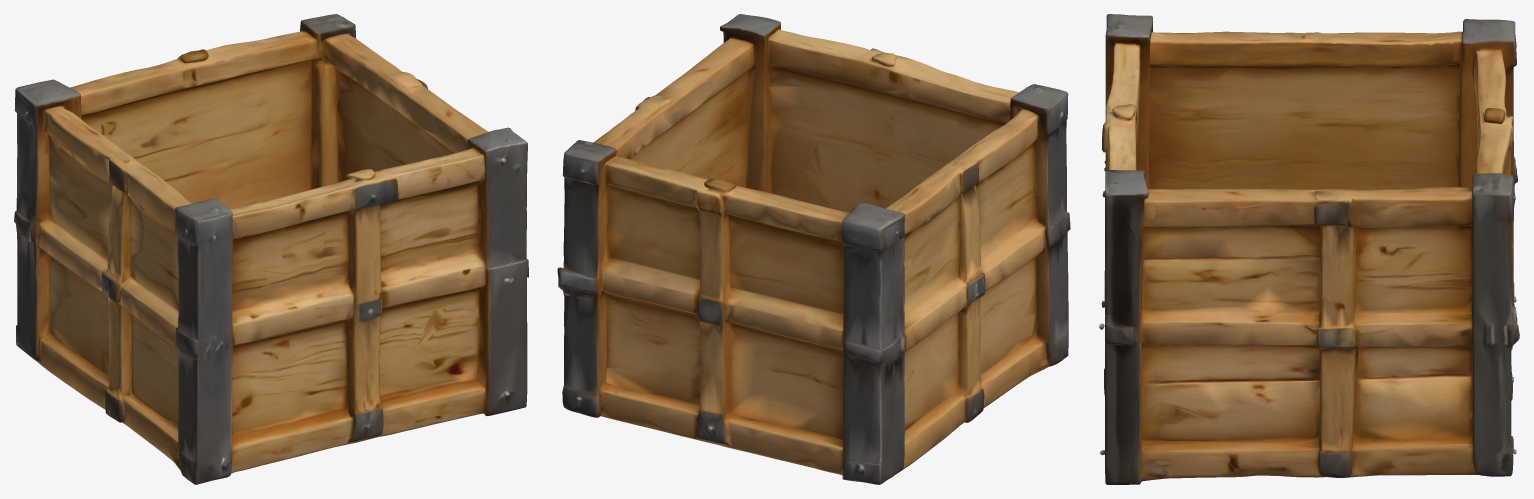
File: 纸烬决斗_木箱游戏道具_20260910.glb
3 renders of one model, left to right at view 1: azimuth 30°, elevation 25°; view 2: azimuth 150°, elevation 25°; view 3: azimuth 270°, elevation 25°, orthographic. The views are drawn at different scales.
Visible parts, largest first — view 1: 木箱_Model_0; view 2: 木箱_Model_0; view 3: 木箱_Model_0.
Part boxes in pixels (x1,y1,x2,y2): 木箱_Model_0: [14, 14, 528, 484]; 木箱_Model_0: [557, 14, 1070, 484]; 木箱_Model_0: [1099, 14, 1519, 484].
Size of the model in its own units: 1.18 by 0.8995 by 1.16.
Materials: 1 (1 with a texture image).
